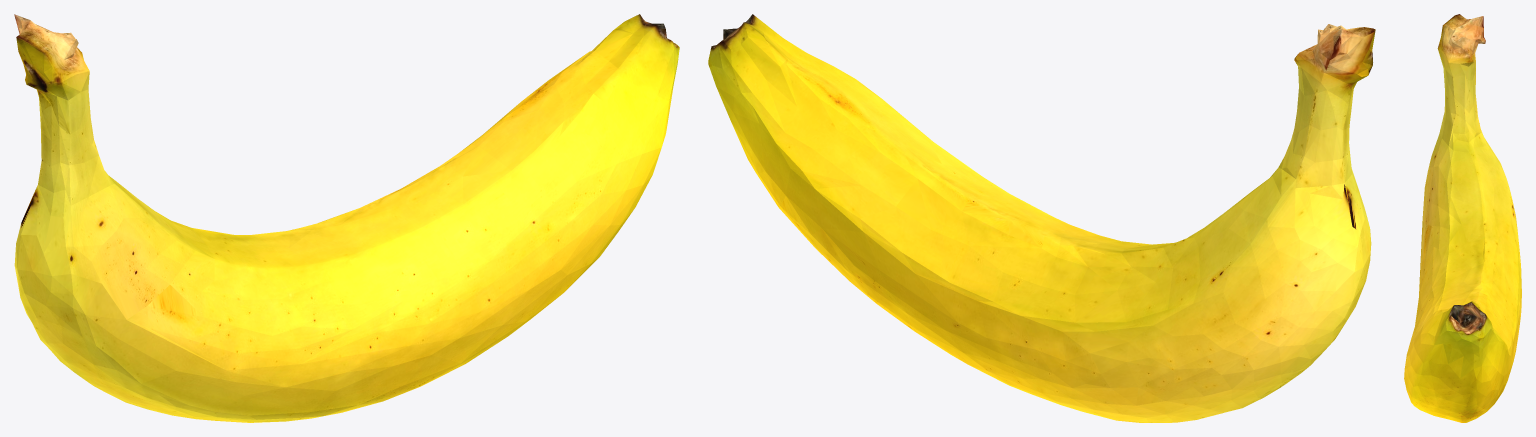
Rendered from banana-v1-transformed.glb.
The picture shows the model from 3 angles, left to right: view 1: azimuth 30°, elevation 25°; view 2: azimuth 150°, elevation 25°; view 3: azimuth 270°, elevation 25°; orthographic projection. The views are drawn at different scales.
Visible parts, largest first — view 1: banana; view 2: banana; view 3: banana.
Boxes of the visible parts, x1,y1,x2,y2 form: banana: (14,14,679,422); banana: (708,14,1375,422); banana: (1404,14,1521,422).
Size of the model in its own units: 6.79 by 4.45 by 1.62.
Materials: 1 (1 with a texture image).
